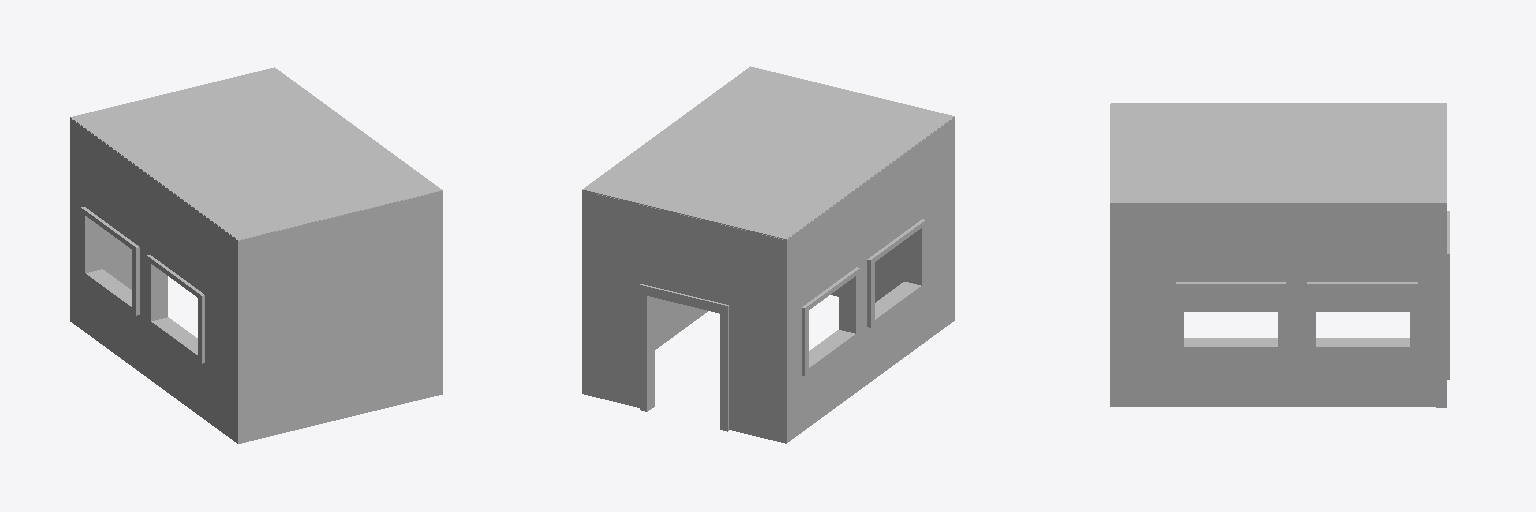
Rendered from Station.obj.
3 views of the same model, side by side, from view 1: azimuth 30°, elevation 25°; view 2: azimuth 150°, elevation 25°; view 3: azimuth 270°, elevation 25° (orthographic).
Visible parts, largest first — view 1: pCube14, pCube13, pCube11, pCube15; view 2: pCube13, pCube11, pCube15, pCube19, pCube12, pCube14; view 3: pCube12, pCube13, pCube11.
Part boxes in pixels (x1,y1,x2,y2): pCube14: (239,191,442,443); pCube13: (70,67,442,240); pCube11: (70,118,245,443); pCube15: (103,229,131,289); pCube13: (582,66,954,239); pCube11: (776,117,954,442); pCube15: (582,191,786,443); pCube19: (640,284,728,431); pCube12: (582,190,707,349); pCube14: (831,241,903,302); pCube12: (1110,204,1446,406); pCube13: (1111,103,1446,203); pCube11: (1184,289,1409,311).
Bounding box in the file's own units: 4.36 × 4.04 × 6.05.